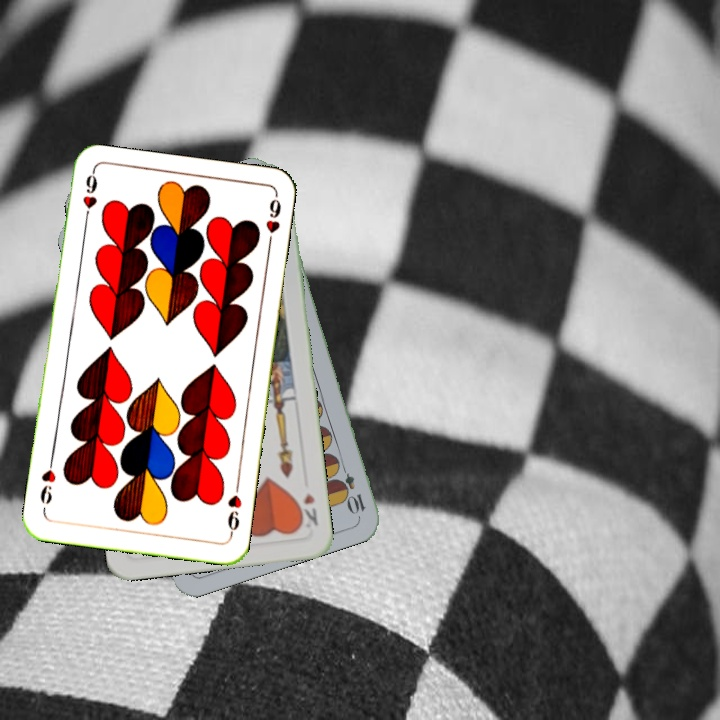E10: (335, 459, 368, 517)
H9: (223, 480, 244, 539), (79, 169, 100, 228)
HK: (293, 489, 320, 532)
